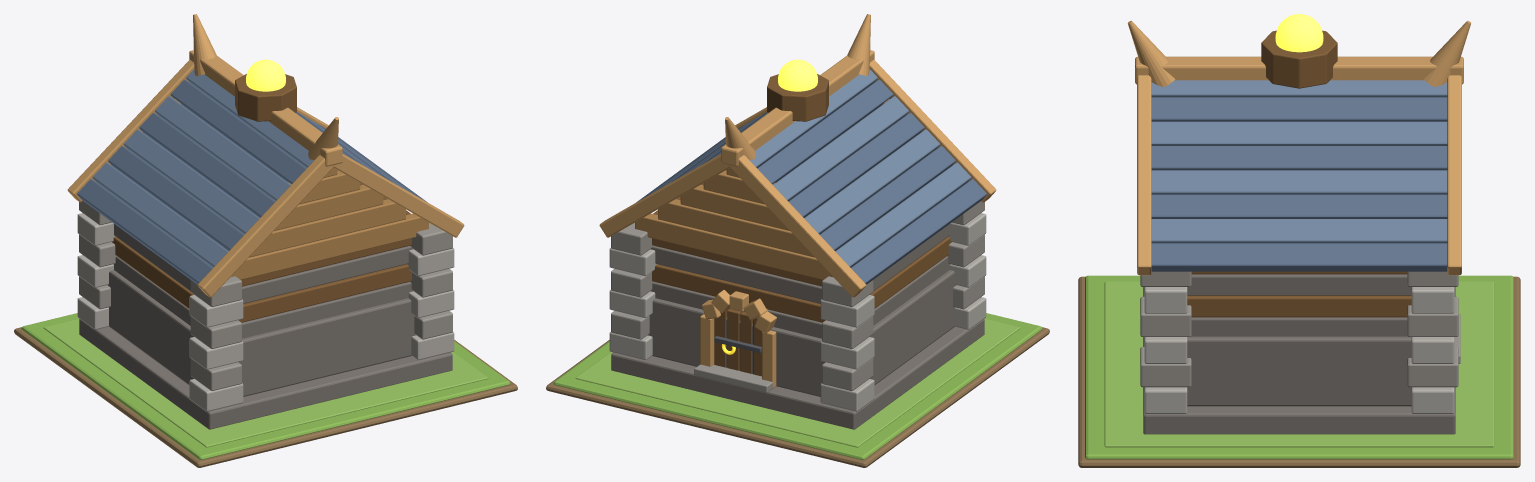
Rendered from builder_hall_lv5.glb.
3 views of the same model, side by side, from view 1: azimuth 30°, elevation 25°; view 2: azimuth 150°, elevation 25°; view 3: azimuth 270°, elevation 25° (orthographic). The views are drawn at different scales.
Visible parts, largest first — view 1: BH_SlateWainscot, BH_Foundation, Base_Inner, Base_Grass, WallPlank_4, Base_Dirt, WallPlank_3, WallPlank_5, Gable_-1_0, RoofSlope_-1_7, RoofSlope_-1_6, RoofSlope_-1_3 (+34 smaller); view 2: BH_SlateWainscot, Base_Inner, BH_Foundation, Base_Grass, Base_Dirt, WallPlank_4, WallPlank_5, Gable_1_0, RoofSlope_-1_7, RoofSlope_-1_6, RoofSlope_-1_3, RoofSlope_-1_2 (+40 smaller); view 3: Base_Inner, BH_SlateWainscot, Base_Grass, RoofSlope_1_7, BH_Foundation, RoofSlope_1_1, RoofSlope_1_4, RoofSlope_1_2, RoofSlope_1_3, RoofSlope_1_5, RoofSlope_1_6, Base_Dirt (+24 smaller).
Part boxes in pixels (box(x1,y1,x2,y2)): BH_SlateWainscot: box(107, 270, 415, 396); BH_Foundation: box(79, 318, 452, 429); Base_Inner: box(43, 318, 488, 447); Base_Grass: box(21, 313, 510, 459); WallPlank_4: box(112, 237, 411, 322); Base_Dirt: box(14, 327, 517, 467); WallPlank_3: box(113, 256, 413, 338); WallPlank_5: box(114, 224, 413, 303); Gable_-1_0: box(230, 213, 428, 279); RoofSlope_-1_7: box(77, 179, 212, 284); RoofSlope_-1_6: box(92, 162, 228, 267); RoofSlope_-1_3: box(139, 112, 275, 217); BH_SlateWainscot: box(648, 270, 956, 396); Base_Inner: box(575, 318, 1020, 447); BH_Foundation: box(611, 318, 984, 429); Base_Grass: box(553, 313, 1042, 459); Base_Dirt: box(546, 327, 1049, 467); WallPlank_4: box(652, 237, 951, 322); WallPlank_5: box(650, 224, 949, 303); Gable_1_0: box(635, 213, 833, 279); RoofSlope_-1_7: box(851, 179, 986, 284); RoofSlope_-1_6: box(835, 162, 971, 267); RoofSlope_-1_3: box(788, 112, 924, 217); RoofSlope_-1_2: box(773, 96, 908, 201); Base_Inner: box(1104, 281, 1494, 447); BH_SlateWainscot: box(1187, 336, 1411, 406); Base_Grass: box(1085, 275, 1513, 459); RoofSlope_1_7: box(1151, 243, 1447, 271); BH_Foundation: box(1143, 287, 1455, 434); RoofSlope_1_1: box(1151, 97, 1447, 121); RoofSlope_1_4: box(1151, 170, 1447, 194); RoofSlope_1_2: box(1151, 121, 1447, 145); RoofSlope_1_3: box(1151, 146, 1447, 170); RoofSlope_1_5: box(1151, 194, 1447, 218); RoofSlope_1_6: box(1151, 219, 1447, 243); Base_Dirt: box(1078, 276, 1520, 467).
Bounding box in the file's own units: 3.68 × 3.3 × 3.68.
